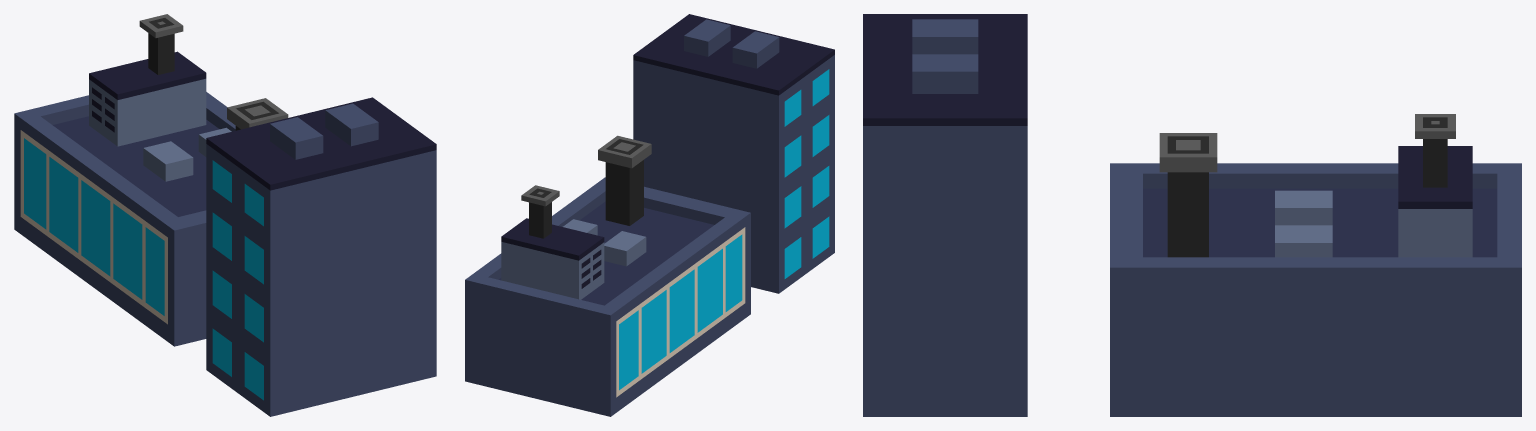
File: Building03.obj
3 views of the same model, side by side, from view 1: azimuth 30°, elevation 25°; view 2: azimuth 150°, elevation 25°; view 3: azimuth 270°, elevation 25° (orthographic). The views are drawn at different scales.
Size of the model in its own units: 3 by 4.3 by 8.
1 material, 1 textured.
